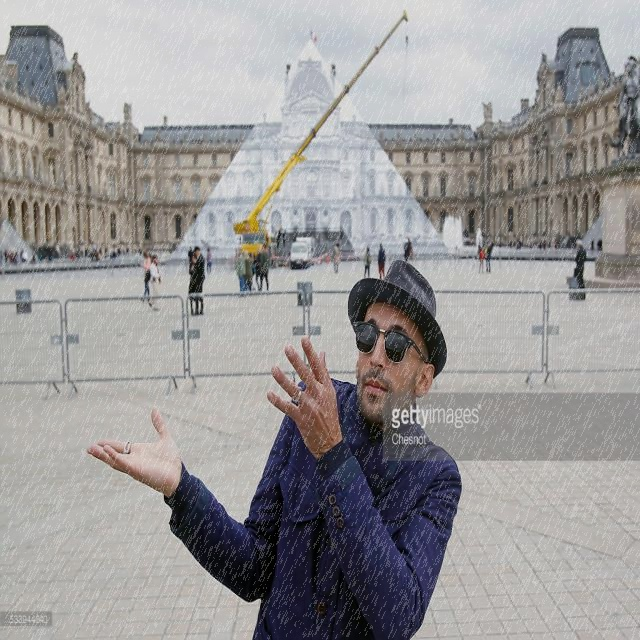pessoa: (86, 258, 462, 639), (0, 233, 145, 267), (602, 52, 640, 165), (57, 48, 93, 128), (532, 48, 564, 111), (505, 232, 573, 254), (191, 244, 206, 316), (146, 252, 162, 312), (573, 238, 588, 300), (576, 73, 602, 104), (188, 251, 200, 316), (240, 250, 256, 294), (140, 250, 152, 304), (258, 242, 270, 292), (235, 245, 247, 292), (272, 222, 290, 252), (253, 248, 264, 293), (402, 235, 414, 268), (378, 242, 387, 283), (481, 98, 495, 124), (331, 240, 341, 276), (476, 241, 486, 277), (484, 240, 494, 273), (121, 98, 132, 128), (363, 246, 371, 278), (205, 247, 213, 276), (186, 243, 196, 262)
